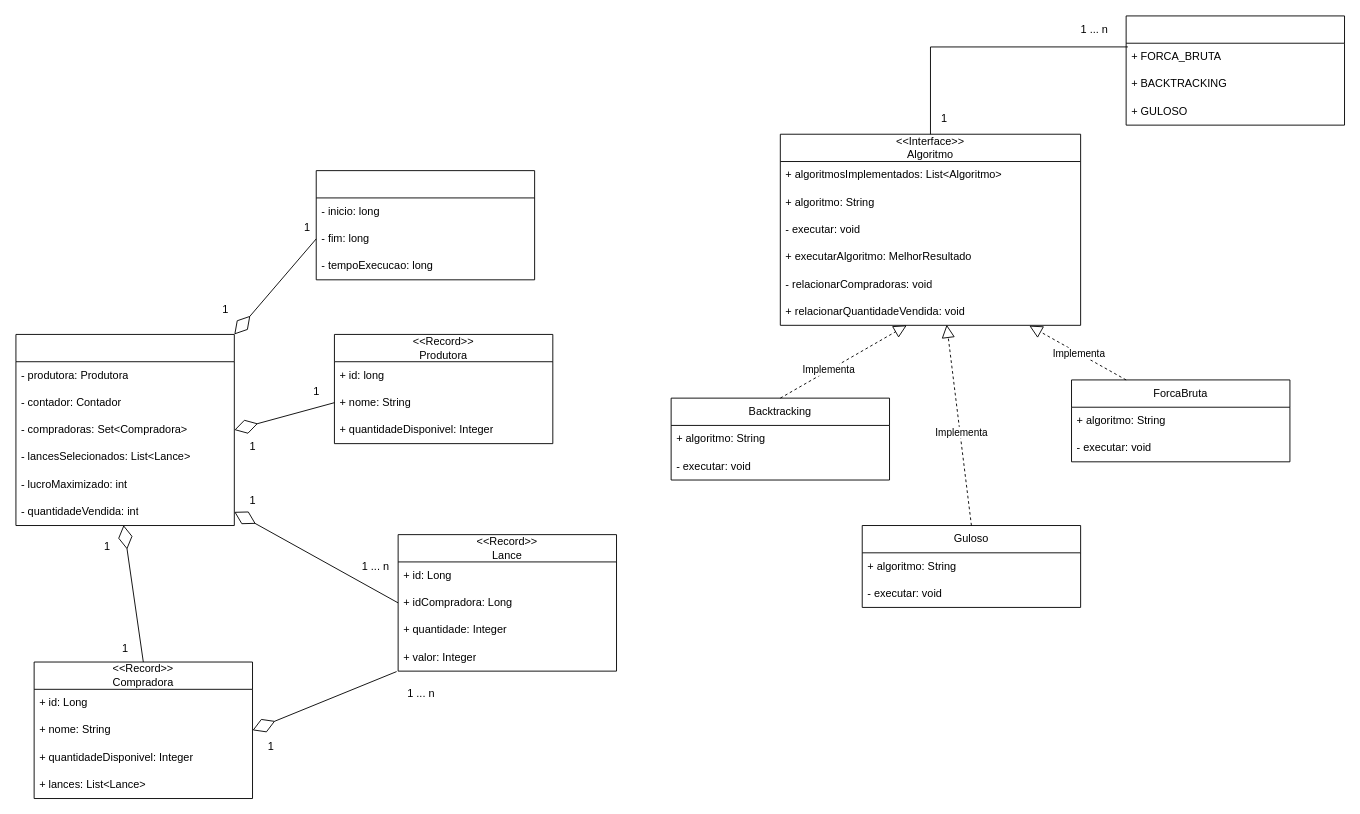
The diagram is 1360 pixels wide and 814 high, and some of its shapes have lost their labels. The shapes that lost their labels are listed below. From the top down, each one's box as (x1, y1, x2, y2) in pixels, then its label:
(1125, 15, 1345, 125): <<Ennumeration>> AlgoritmosEnums
(315, 170, 535, 280): Contador
(15, 334, 234, 526): MelhorResultado
